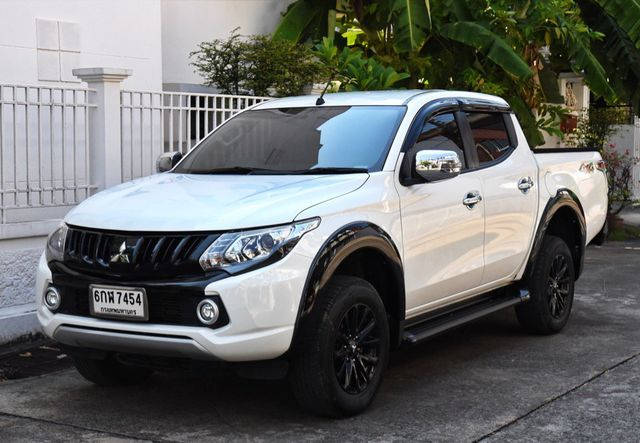pickup: (33, 83, 608, 419)
